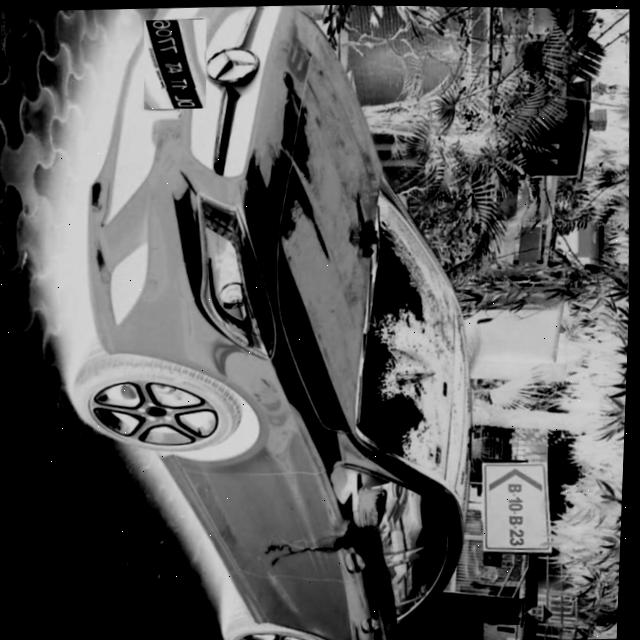Non_registered: (140, 18, 208, 109)
